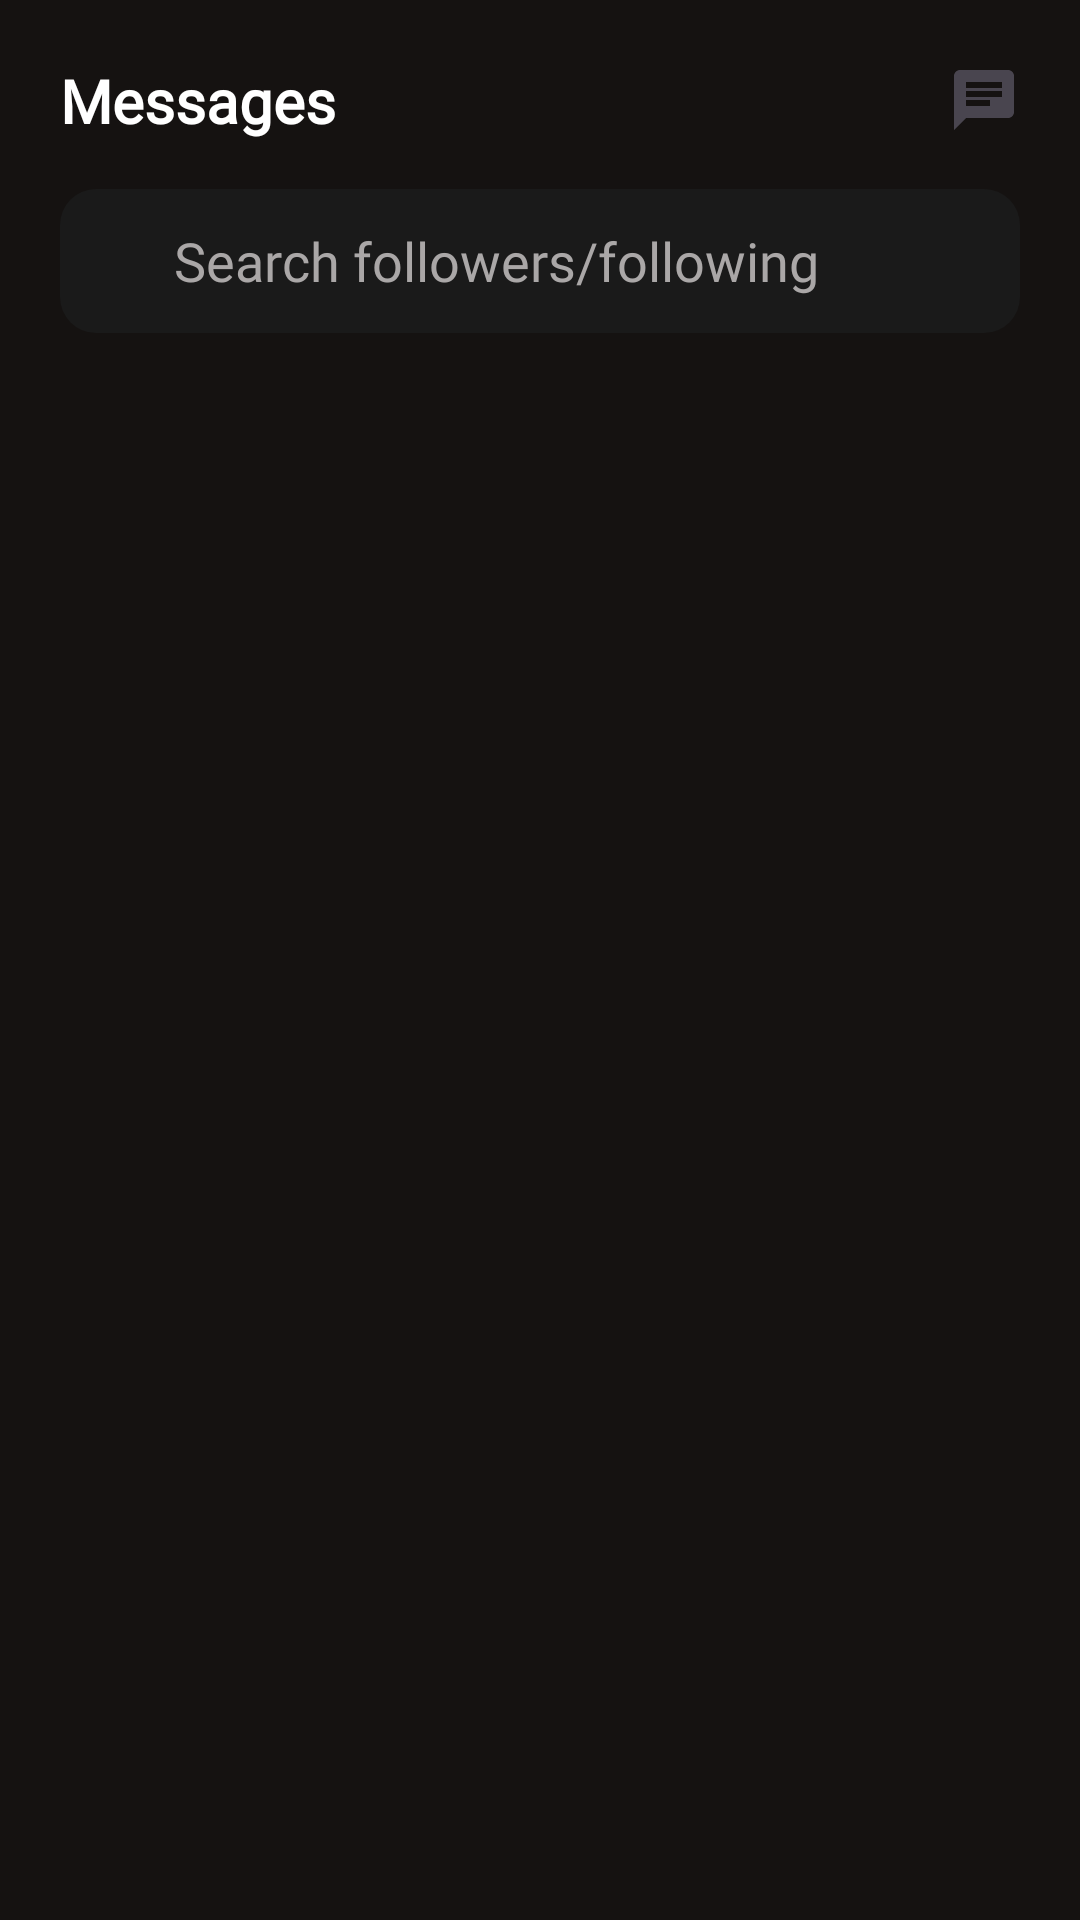

Icons on this 1080x1920 Android screen, each with the point to tap as (x,y):
New message: (984,100)
